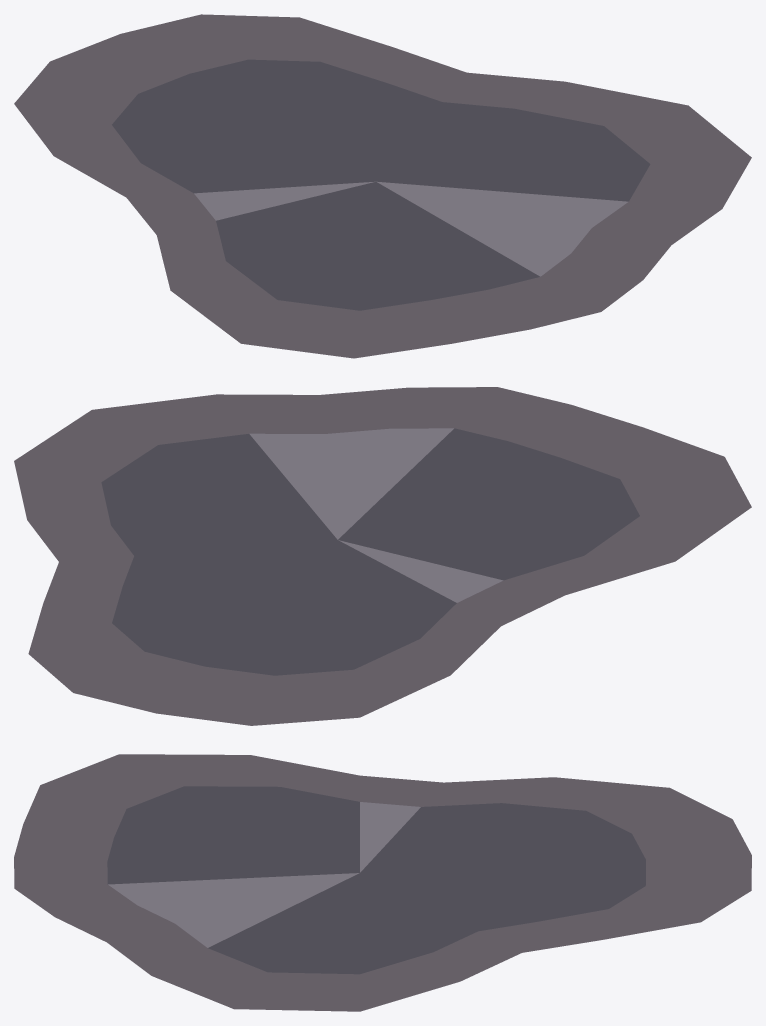
File: oil-slick-b.glb
3 views of the same model, one above another, from view 1: azimuth 30°, elevation 25°; view 2: azimuth 150°, elevation 25°; view 3: azimuth 270°, elevation 25° (orthographic). The views are drawn at different scales.
Parts seen in each view (by area): view 1: oil-slick-b; view 2: oil-slick-b; view 3: oil-slick-b.
Part boxes in pixels (<box>): oil-slick-b: <box>14,14,751,358</box>; oil-slick-b: <box>14,387,751,725</box>; oil-slick-b: <box>14,754,751,1011</box>.
Bounding box in the file's own units: 2.29 × 0 × 2.77.
1 material, 1 textured.
